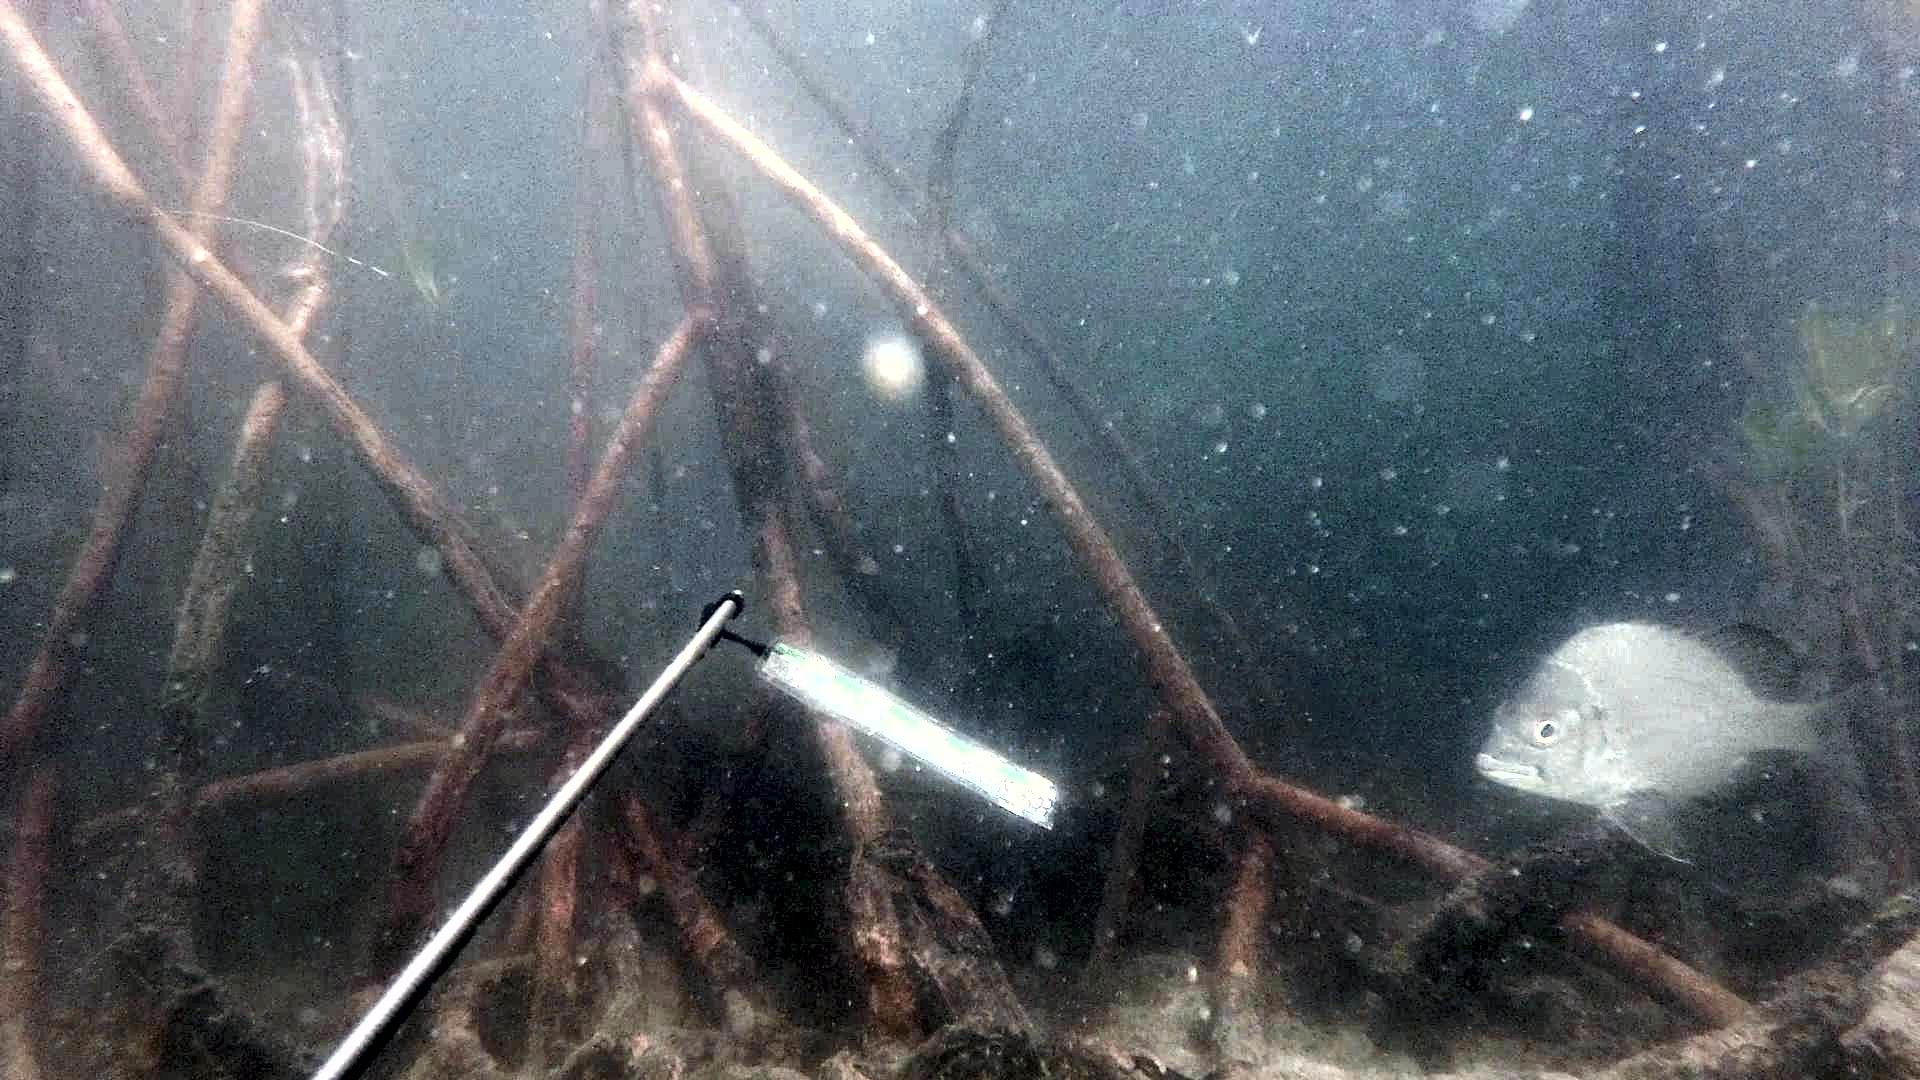acanthopagrus palmaris: (1468, 611, 1920, 878)
